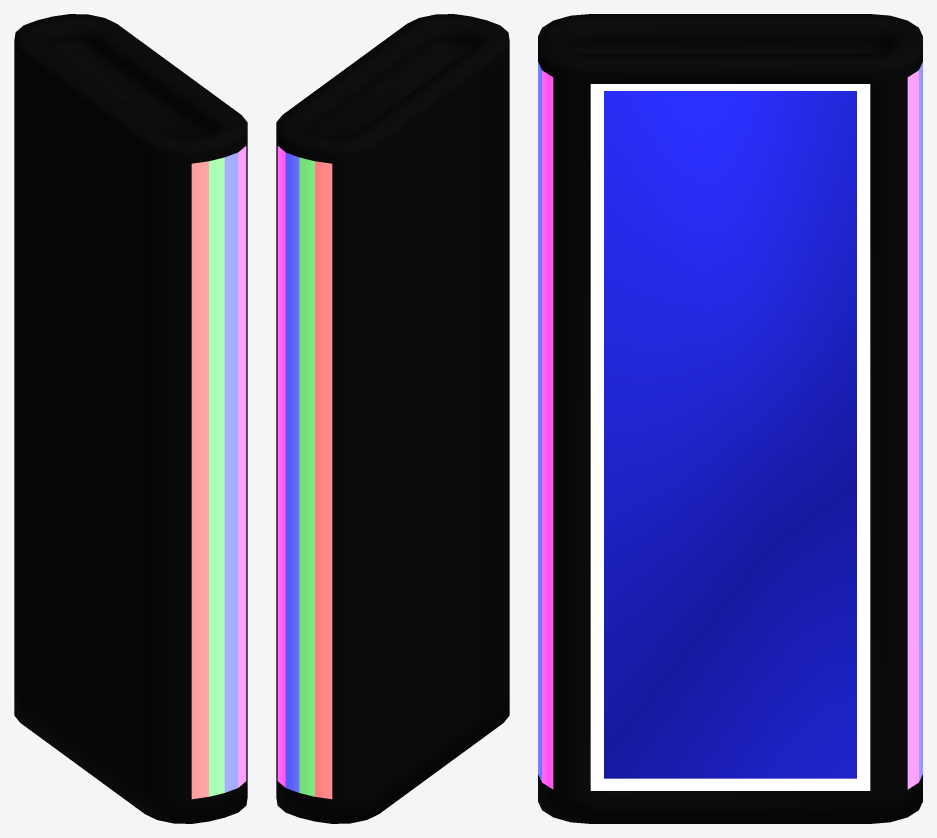
Rendered from LeaderBoard.glb.
3 views of the same model, side by side, from view 1: azimuth 30°, elevation 25°; view 2: azimuth 150°, elevation 25°; view 3: azimuth 270°, elevation 25° (orthographic). The views are drawn at different scales.
Parts seen in each view (by area): view 1: Cube; view 2: Cube; view 3: Cube.
Part boxes in pixels (x1,y1,x2,y2): Cube: (14,14,247,823); Cube: (276,14,509,823); Cube: (538,14,922,823).
Size of what is drawn, in the model's own units: 0.2724 by 1.82 by 0.838.
